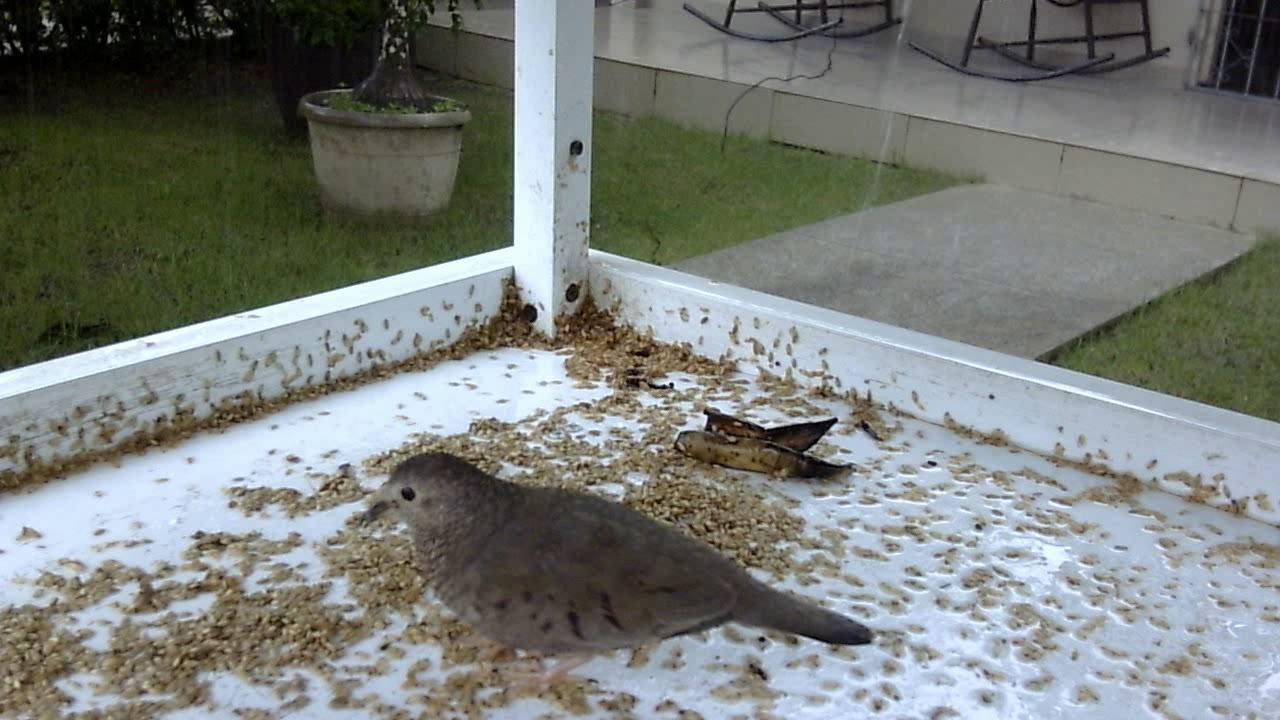rolinha: (340, 453, 878, 701)
